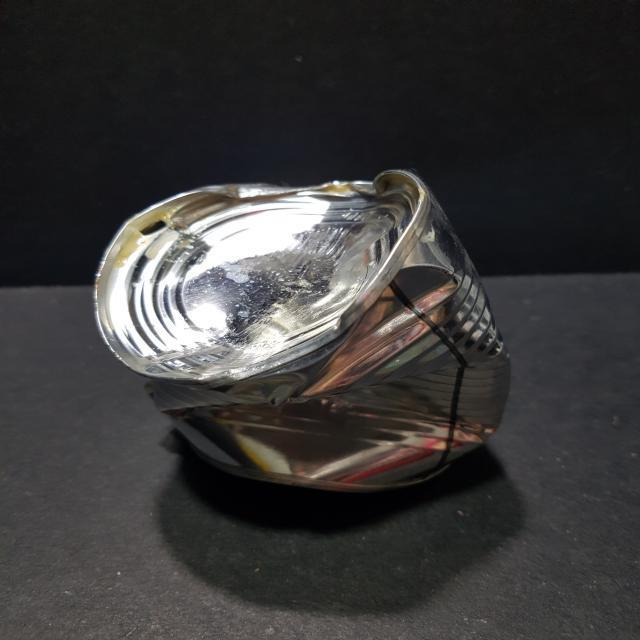metal: (92, 158, 516, 514)
